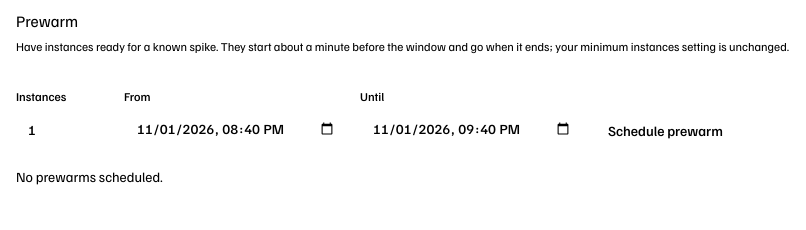
Test case: PrewarmPanel › refuses a window that ends before it starts
Replace the text in the field labelled "Until" with "2020-01-01T00:00" at {"x": 472, "y": 129}, box [360,111,584,147]
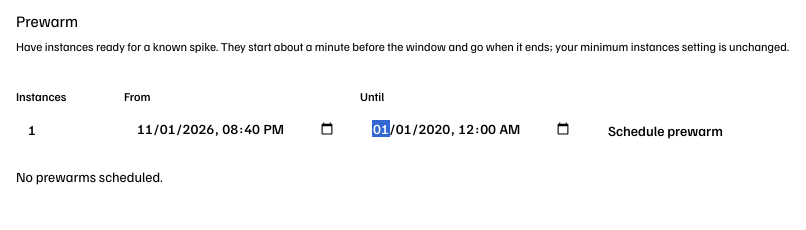
Click the button "Schedule prewarm" at {"x": 666, "y": 131}, box [596,115,735,147]
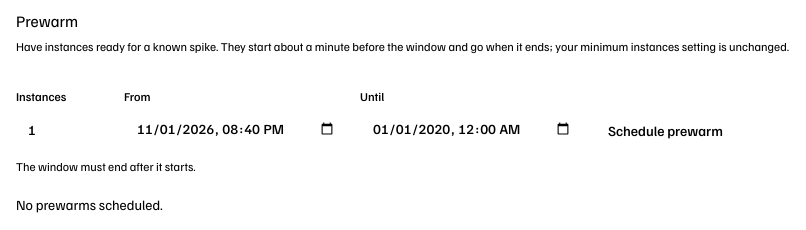
expect the text "The window must end after it starts." is shown: met, box [16,159,196,174]
